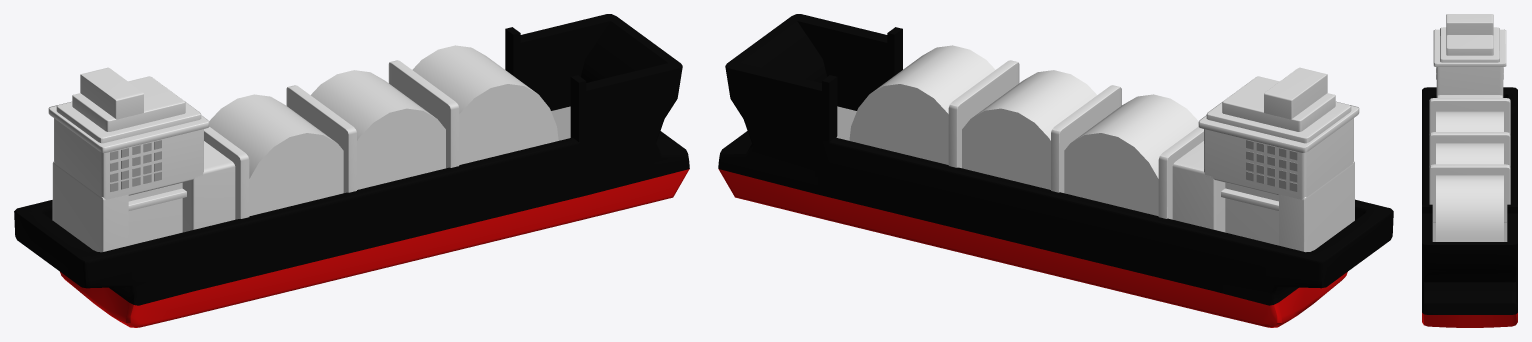
The model's file is Ship_3.fbx.
3 views of the same model, side by side, from view 1: azimuth 30°, elevation 25°; view 2: azimuth 150°, elevation 25°; view 3: azimuth 270°, elevation 25° (orthographic). The views are drawn at different scales.
Parts seen in each view (by area): view 1: Ship_3; view 2: Ship_3; view 3: Ship_3.
Boxes of the visible parts, x1,y1,x2,y2 form: Ship_3: (14, 14, 689, 327); Ship_3: (718, 14, 1393, 327); Ship_3: (1422, 14, 1517, 327).
Size of the model in its own units: 7.89 by 2.83 by 1.66.
